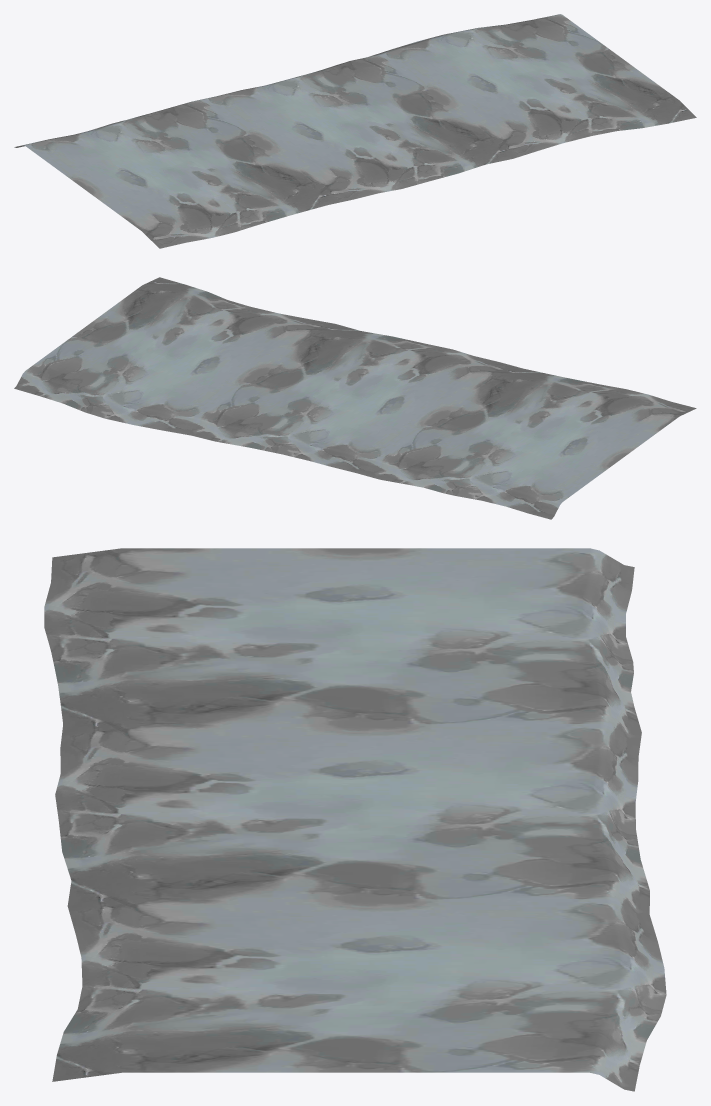
Rendered from map_114_dibiao_1.fbx.
The picture shows the model from 3 angles, top to bottom: view 1: azimuth 30°, elevation 25°; view 2: azimuth 150°, elevation 25°; view 3: azimuth 270°, elevation 25°; orthographic projection. The views are drawn at different scales.
Parts seen in each view (by area): view 1: map_114_dibiao_1; view 2: map_114_dibiao_1; view 3: map_114_dibiao_1.
Boxes of the visible parts, x1=… form: map_114_dibiao_1: x1=14, y1=14, x2=696, y2=248; map_114_dibiao_1: x1=14, y1=277, x2=696, y2=519; map_114_dibiao_1: x1=44, y1=548, x2=666, y2=1091.
Size of the model in its own units: 60 by 1.01 by 30.08.
